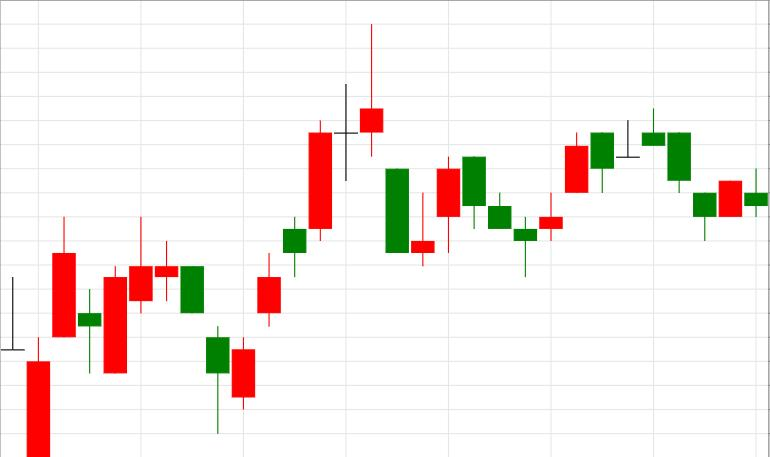shooting_star_fall: (231, 24, 383, 411)
